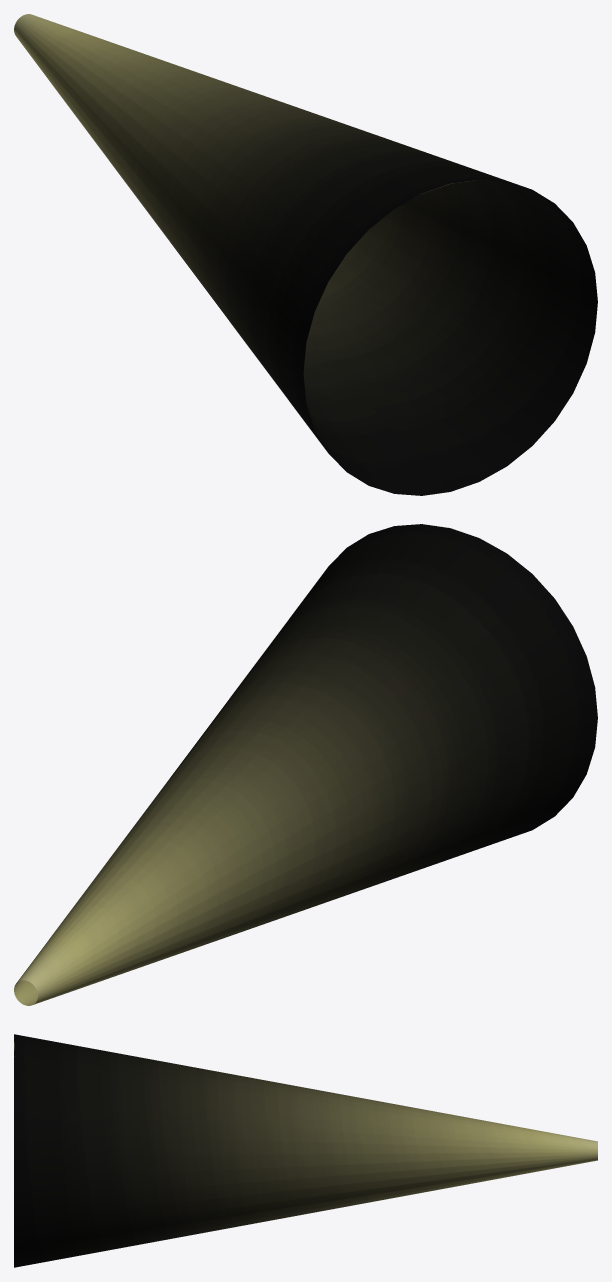
Rendered from VolumetricSpotlight.fbx.
3 renders of one model, top to bottom at view 1: azimuth 30°, elevation 25°; view 2: azimuth 150°, elevation 25°; view 3: azimuth 270°, elevation 25°, orthographic. The views are drawn at different scales.
Visible parts, largest first — view 1: VolumetricSpotlight; view 2: VolumetricSpotlight; view 3: VolumetricSpotlight.
Part boxes in pixels (x1=…): VolumetricSpotlight: x1=14, y1=14, x2=597, y2=495; VolumetricSpotlight: x1=14, y1=524, x2=597, y2=1005; VolumetricSpotlight: x1=14, y1=1034, x2=597, y2=1267.
Size of the model in its own units: 200 by 200 by 500.
